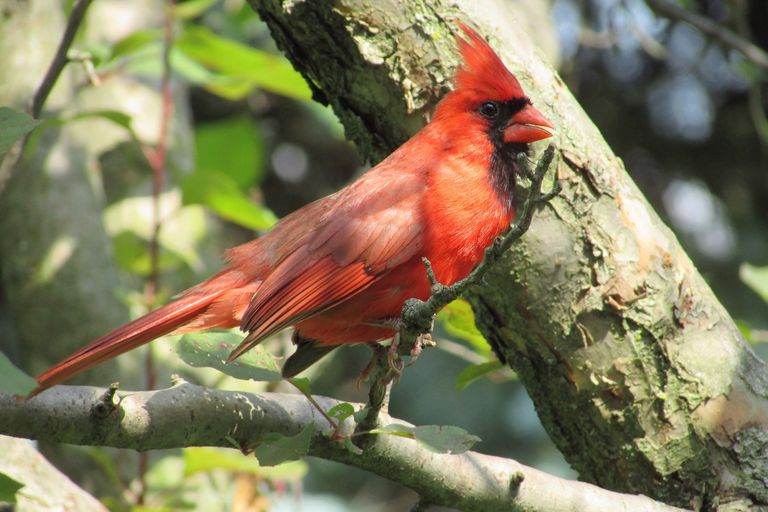bird: (180, 64, 531, 360)
